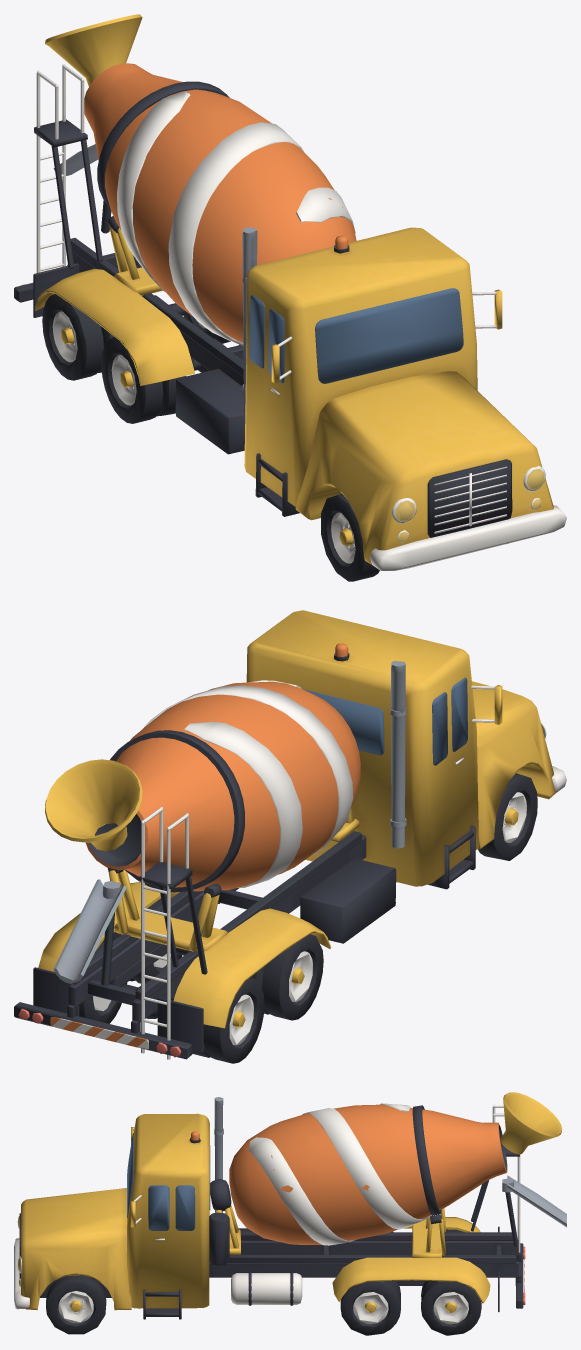
File: n_mixer.glb
The picture shows the model from 3 angles, top to bottom: view 1: azimuth 30°, elevation 25°; view 2: azimuth 150°, elevation 25°; view 3: azimuth 270°, elevation 25°; orthographic projection. The views are drawn at different scales.
Visible parts, largest first — view 1: concrete-mixer-truck_body, concrete-mixer-truck_drum, concrete-mixer-truck_windows, concrete-mixer-truck_wheel_r2r, concrete-mixer-truck_wheel_r1r, concrete-mixer-truck_wheel_fr, concrete-mixer-truck_headlights; view 2: concrete-mixer-truck_body, concrete-mixer-truck_drum, concrete-mixer-truck_windows, concrete-mixer-truck_wheel_r1r, concrete-mixer-truck_wheel_r2r, concrete-mixer-truck_wheel_fr, concrete-mixer-truck_wheel_r2l, concrete-mixer-truck_wheel_r1l; view 3: concrete-mixer-truck_body, concrete-mixer-truck_drum, concrete-mixer-truck_wheel_fl, concrete-mixer-truck_wheel_r2l, concrete-mixer-truck_wheel_r1l, concrete-mixer-truck_windows.
Part boxes in pixels (x1,y1,x2,y2): concrete-mixer-truck_body: [14, 14, 566, 570]; concrete-mixer-truck_drum: [84, 63, 356, 345]; concrete-mixer-truck_windows: [249, 288, 463, 383]; concrete-mixer-truck_wheel_r2r: [42, 294, 114, 380]; concrete-mixer-truck_wheel_r1r: [101, 337, 186, 423]; concrete-mixer-truck_wheel_fr: [321, 493, 379, 581]; concrete-mixer-truck_headlights: [392, 466, 545, 542]; concrete-mixer-truck_body: [14, 610, 566, 1059]; concrete-mixer-truck_drum: [86, 680, 360, 892]; concrete-mixer-truck_windows: [302, 677, 467, 765]; concrete-mixer-truck_wheel_r1r: [251, 934, 323, 1020]; concrete-mixer-truck_wheel_r2r: [192, 977, 264, 1063]; concrete-mixer-truck_wheel_fr: [478, 773, 537, 860]; concrete-mixer-truck_wheel_r2l: [79, 941, 127, 1023]; concrete-mixer-truck_wheel_r1l: [103, 898, 182, 983]; concrete-mixer-truck_body: [14, 1092, 566, 1319]; concrete-mixer-truck_drum: [229, 1103, 507, 1245]; concrete-mixer-truck_wheel_fl: [46, 1275, 106, 1334]; concrete-mixer-truck_wheel_r2l: [421, 1280, 481, 1335]; concrete-mixer-truck_wheel_r1l: [340, 1281, 400, 1335]; concrete-mixer-truck_windows: [127, 1133, 210, 1230].
Size of the model in its own units: 3 by 3.88 by 9.29.
2 materials, 1 textured.
